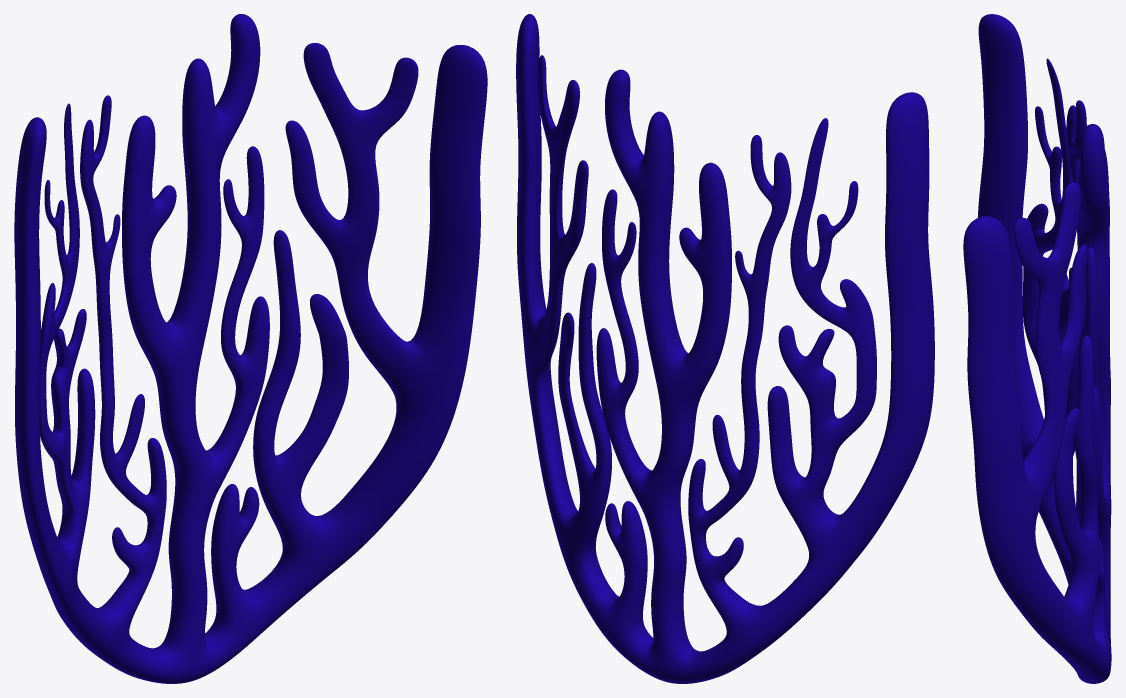
File: Corals 3 Curved.fbx
3 renders of one model, left to right at view 1: azimuth 30°, elevation 25°; view 2: azimuth 150°, elevation 25°; view 3: azimuth 270°, elevation 25°, orthographic. The views are drawn at different scales.
Parts seen in each view (by area): view 1: Cube; view 2: Cube; view 3: Cube.
Boxes of the visible parts, x1=… form: Cube: x1=14, y1=14, x2=487, y2=683; Cube: x1=516, y1=14, x2=934, y2=683; Cube: x1=963, y1=14, x2=1111, y2=683.
Bounding box in the file's own units: 67.35 × 91.95 × 21.4.
